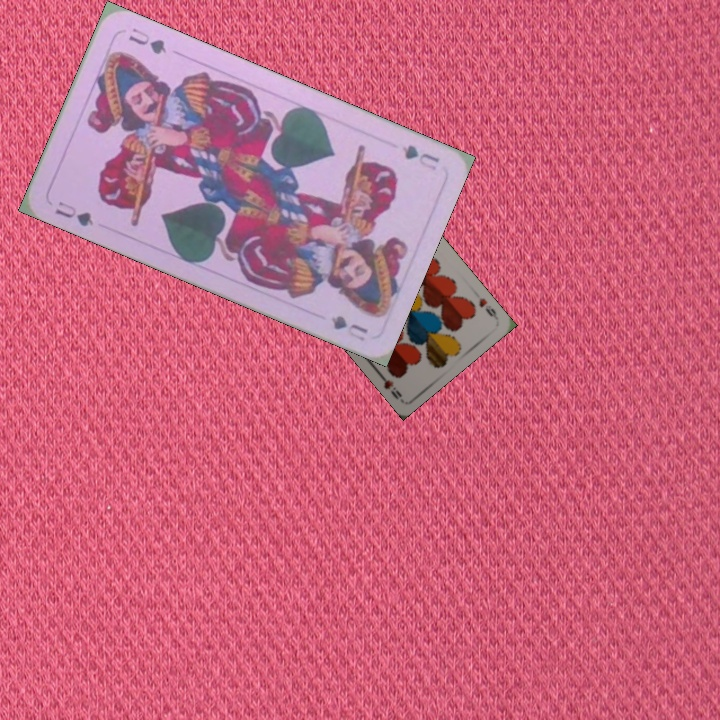GU: (50, 197, 98, 229), (398, 140, 443, 173)
H9: (475, 294, 500, 321)
